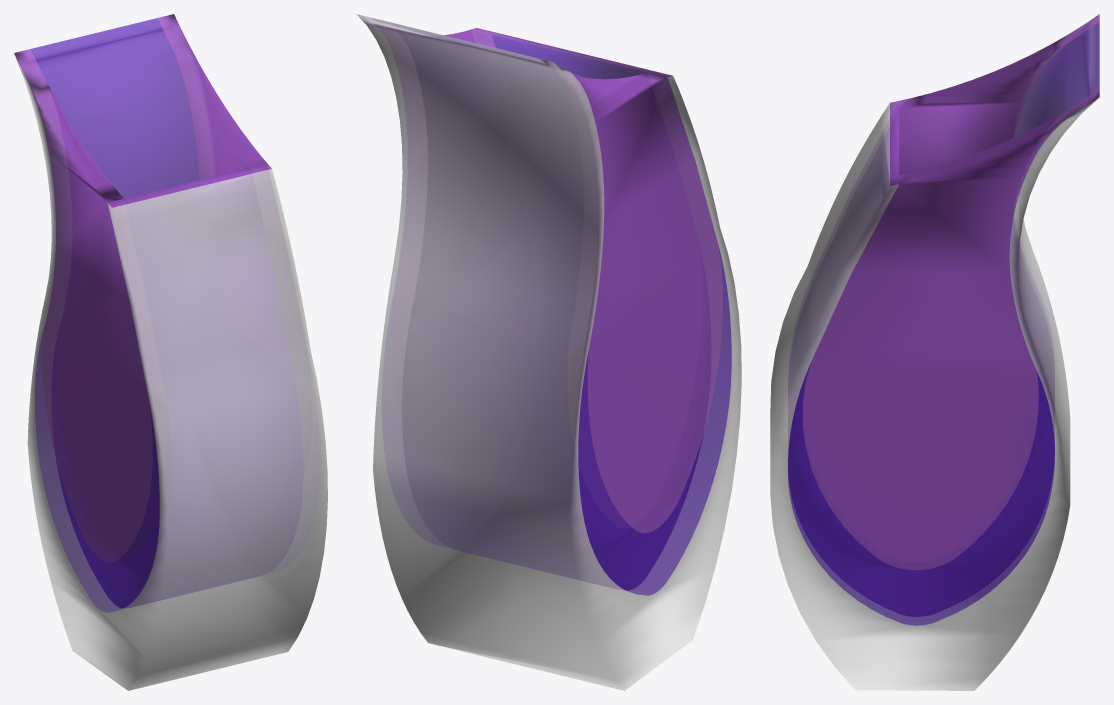
3 renders of one model, left to right at view 1: azimuth 30°, elevation 25°; view 2: azimuth 150°, elevation 25°; view 3: azimuth 270°, elevation 25°, orthographic. The views are drawn at different scales.
Visible parts, largest first — view 1: Mesh1_Model.005; view 2: Mesh1_Model.005; view 3: Mesh1_Model.005.
Boxes of the visible parts, x1,y1,x2,y2 form: Mesh1_Model.005: (14, 14, 327, 690); Mesh1_Model.005: (356, 14, 741, 690); Mesh1_Model.005: (770, 14, 1099, 690).
Size of the model in its own units: 0.3 by 0.9946 by 0.5.
